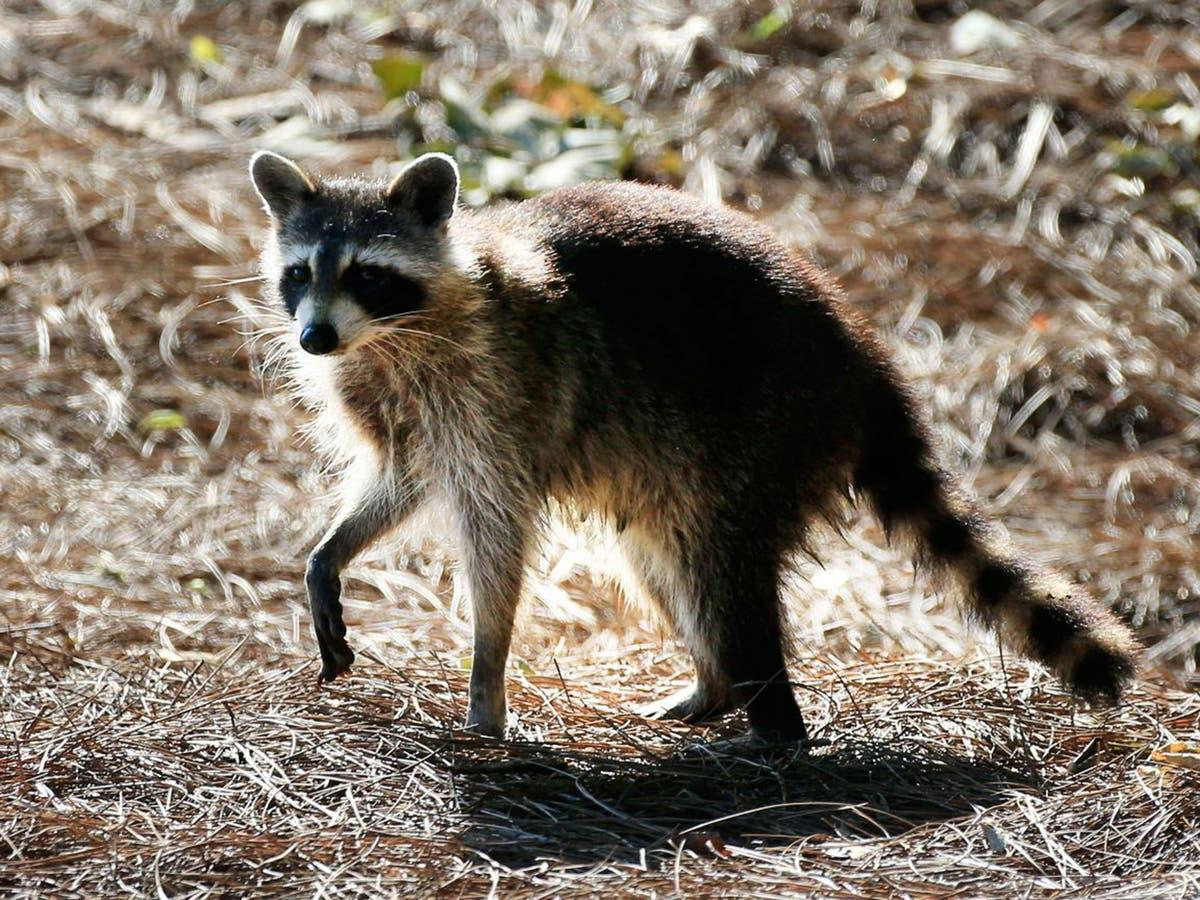raccoon: (245, 150, 1142, 776)
